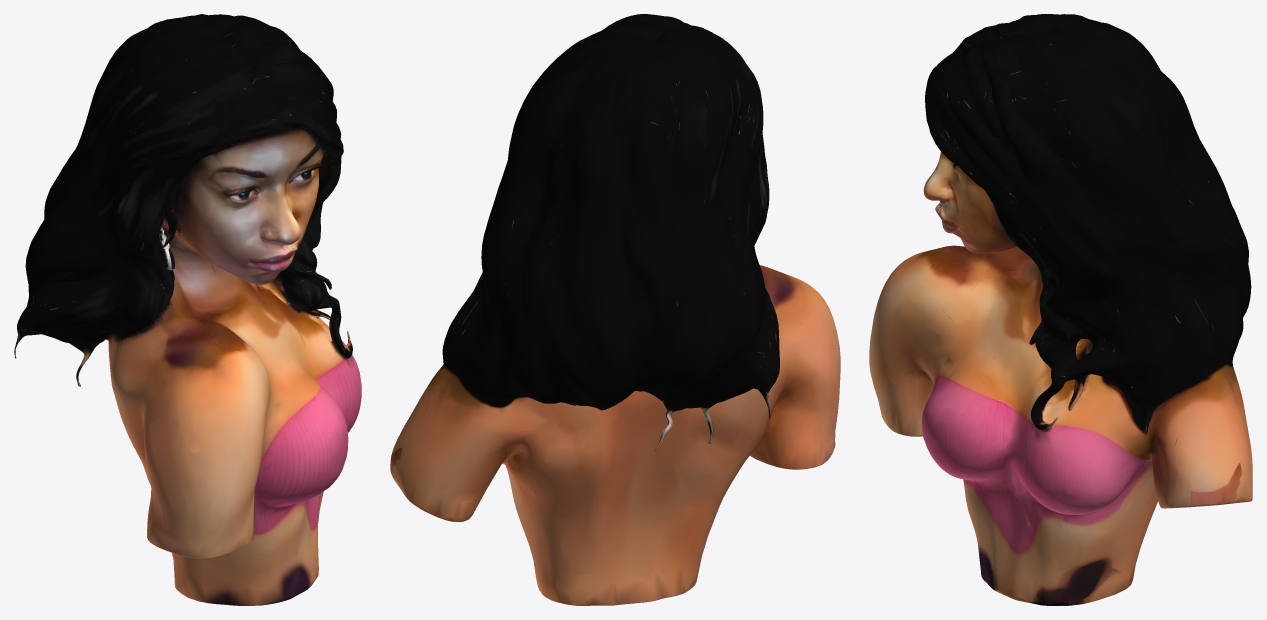
The model's file is ava_head.glb.
3 views of the same model, side by side, from view 1: azimuth 30°, elevation 25°; view 2: azimuth 150°, elevation 25°; view 3: azimuth 270°, elevation 25° (orthographic). The views are drawn at different scales.
Parts seen in each view (by area): view 1: Mesh_0; view 2: Mesh_0; view 3: Mesh_0.
Part boxes in pixels (x1=…): Mesh_0: x1=14, y1=14, x2=361, y2=605; Mesh_0: x1=390, y1=14, x2=840, y2=605; Mesh_0: x1=869, y1=14, x2=1252, y2=605.
Bounding box in the file's own units: 1.21 × 1.91 × 1.24.
Materials: 1 (1 with a texture image).
